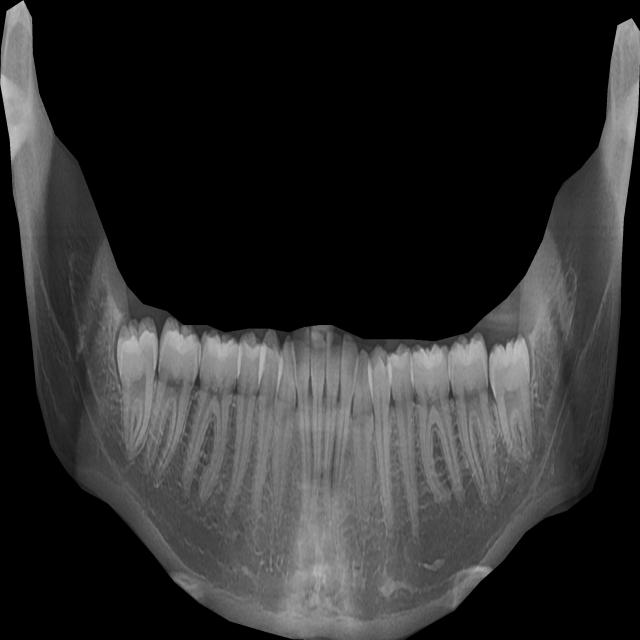mandibula: (0, 0, 640, 640)
